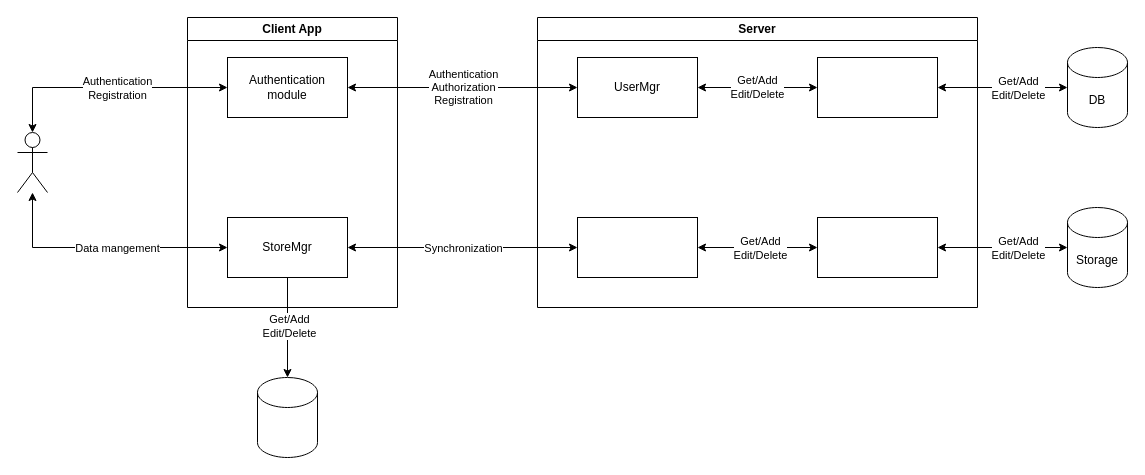
Image size: 1145x475. Some labels were removed from this diagram. The centre of each missing label's shape, as x and y in pixels:
DataStoreMgr: point (637, 247)
Local storage: point (287, 417)
Store repo: point (877, 247)
Users repo: point (877, 87)
